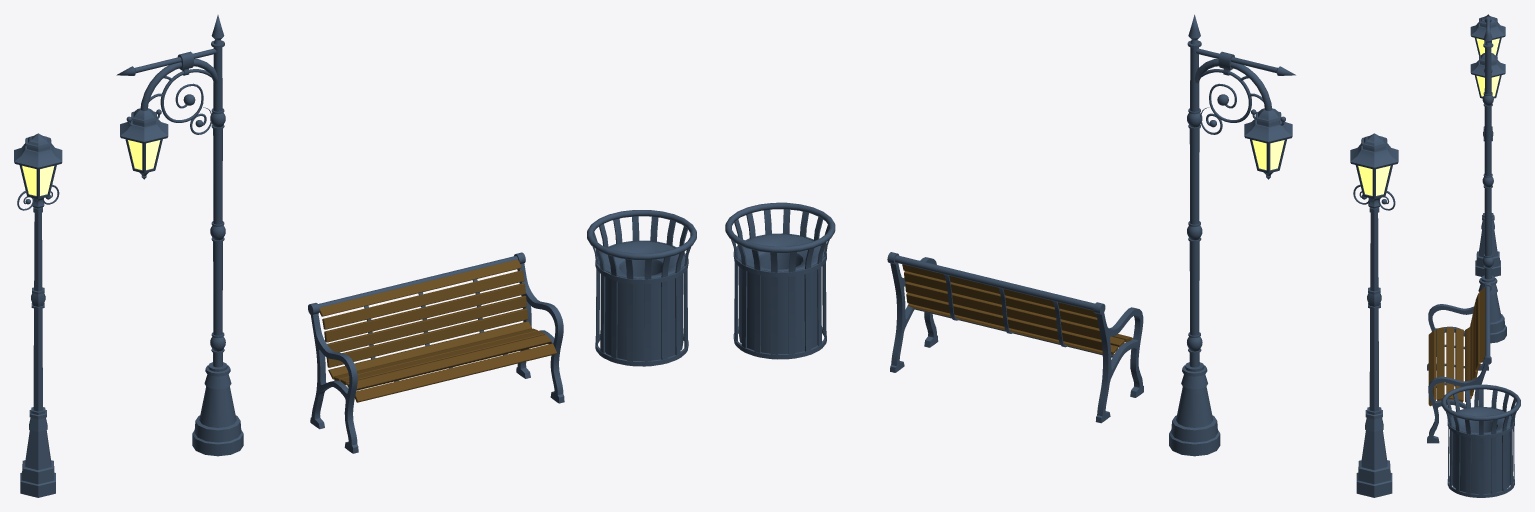
Rendered from ParkAssets.fbx.
3 renders of one model, left to right at view 1: azimuth 30°, elevation 25°; view 2: azimuth 150°, elevation 25°; view 3: azimuth 270°, elevation 25°, orthographic. The views are drawn at different scales.
Visible parts, largest first — view 1: Holzbank, Mülleimer, V2Laterne, V1Laterne; view 2: Holzbank, Mülleimer, V2Laterne, V1Laterne; view 3: Mülleimer, Holzbank, V2Laterne, V1Laterne.
Part boxes in pixels (<box>): Holzbank: <box>308,252,564,453</box>; Mülleimer: <box>587,210,696,366</box>; V2Laterne: <box>116,15,243,456</box>; V1Laterne: <box>14,133,62,497</box>; Holzbank: <box>887,252,1143,423</box>; Mülleimer: <box>725,202,835,359</box>; V2Laterne: <box>1169,14,1295,456</box>; V1Laterne: <box>1350,133,1398,497</box>; Mülleimer: <box>1441,384,1520,497</box>; Holzbank: <box>1427,282,1491,443</box>; V2Laterne: <box>1470,14,1506,343</box>; V1Laterne: <box>1470,15,1505,276</box>.
Bounding box in the file's own units: 504 × 310 × 84.61.
